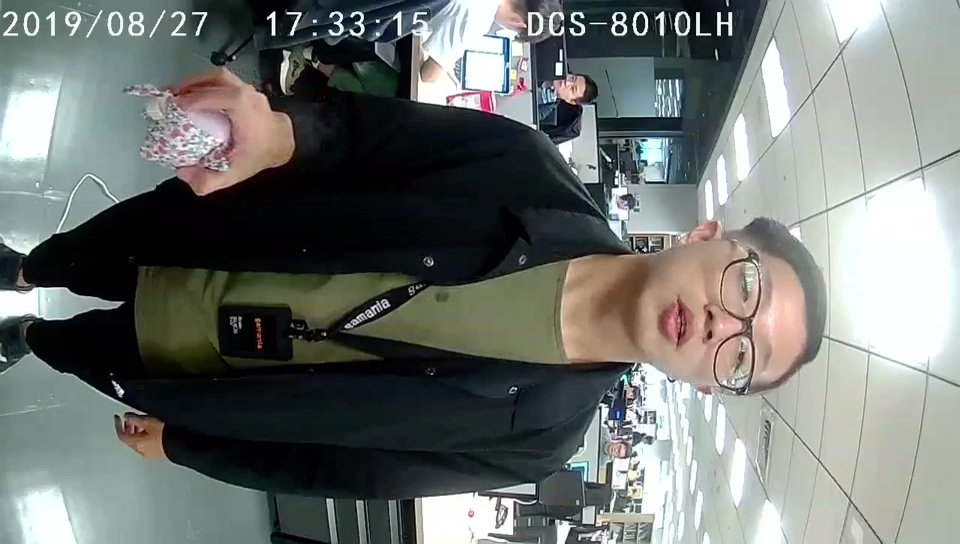pig: (140, 87, 235, 176)
